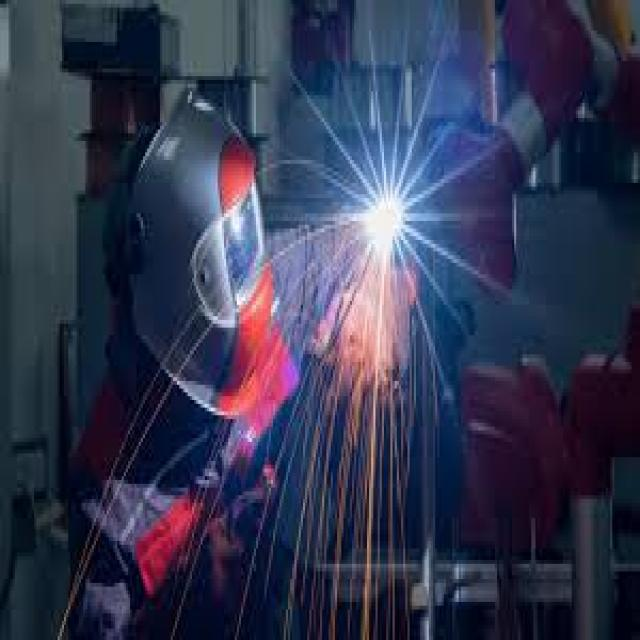welding: (372, 195, 397, 236)
